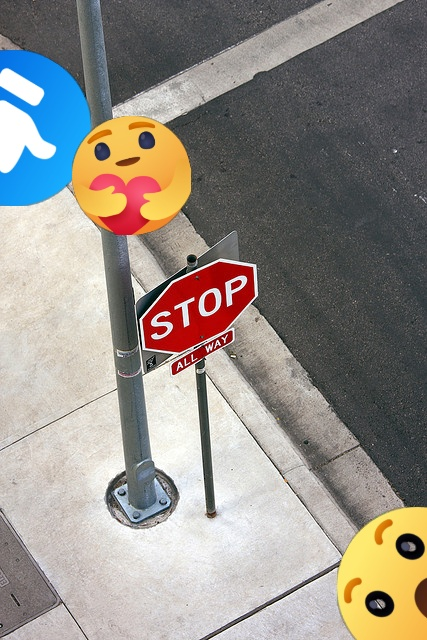care: (72, 116, 191, 235)
like: (0, 50, 91, 206)
wow: (337, 507, 427, 640)
